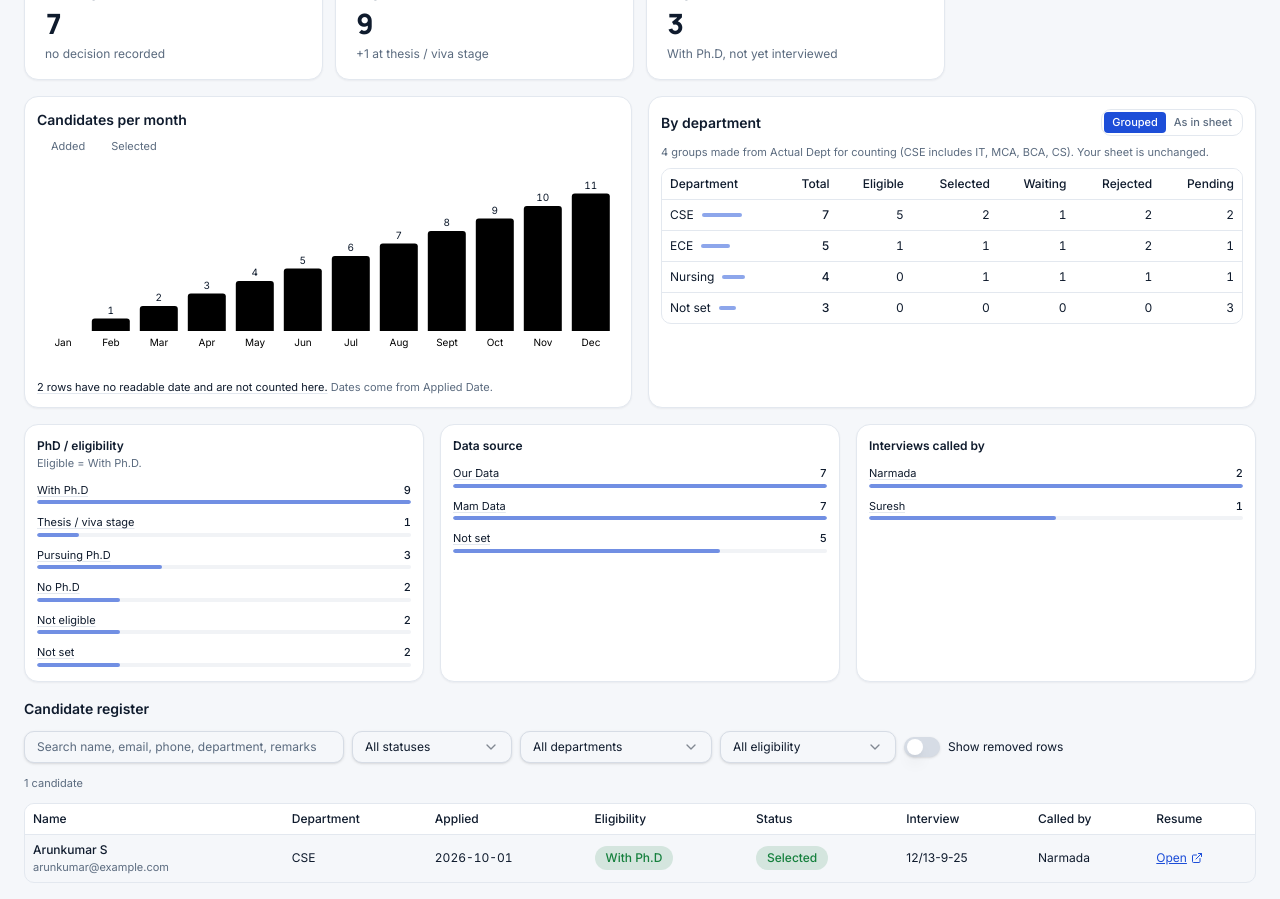
Test case: TalentPoolPage › entry sheet › opens on a row click and shows every sheet column
This screenshot has width=1280, height=899.
(page scrolled)
Click the text "Arunkumar S". click: (70, 850)
box: [33,841,108,859]
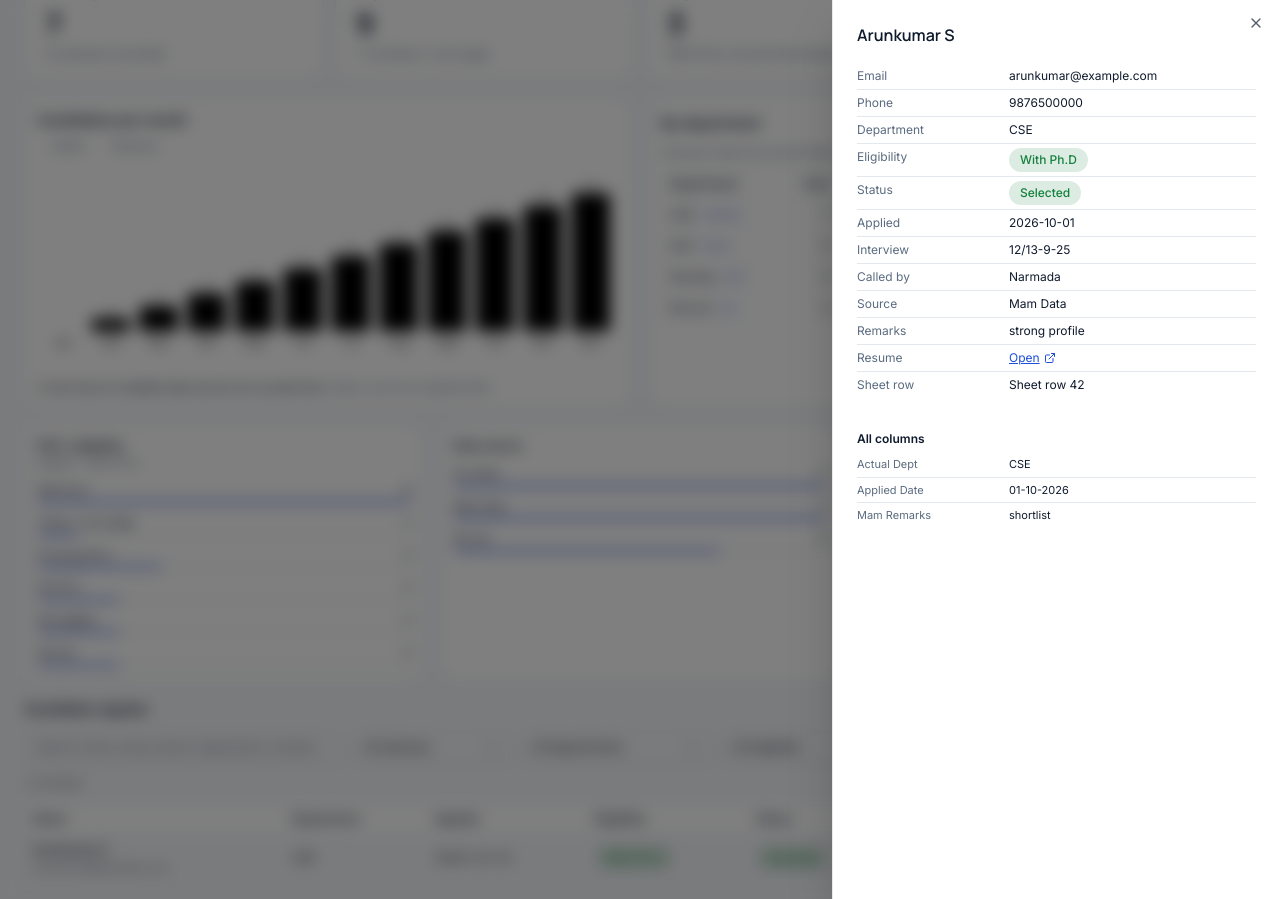
Expected: the text "Sheet row 42" is shown, [1009,377,1085,392]
Expected: the heading "All columns" is shown, [857,431,925,446]
Expected: the text "Mam Remarks" is shown, [857,508,931,522]
